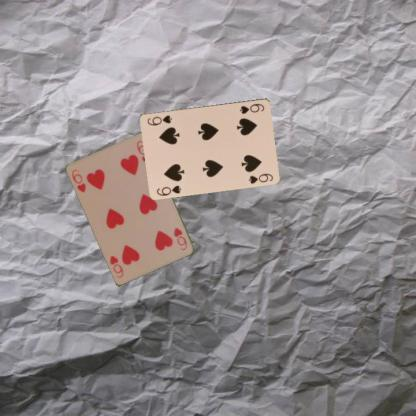6h: (70, 167, 88, 194), (171, 225, 188, 252)
6s: (237, 101, 266, 115), (154, 183, 183, 197)
